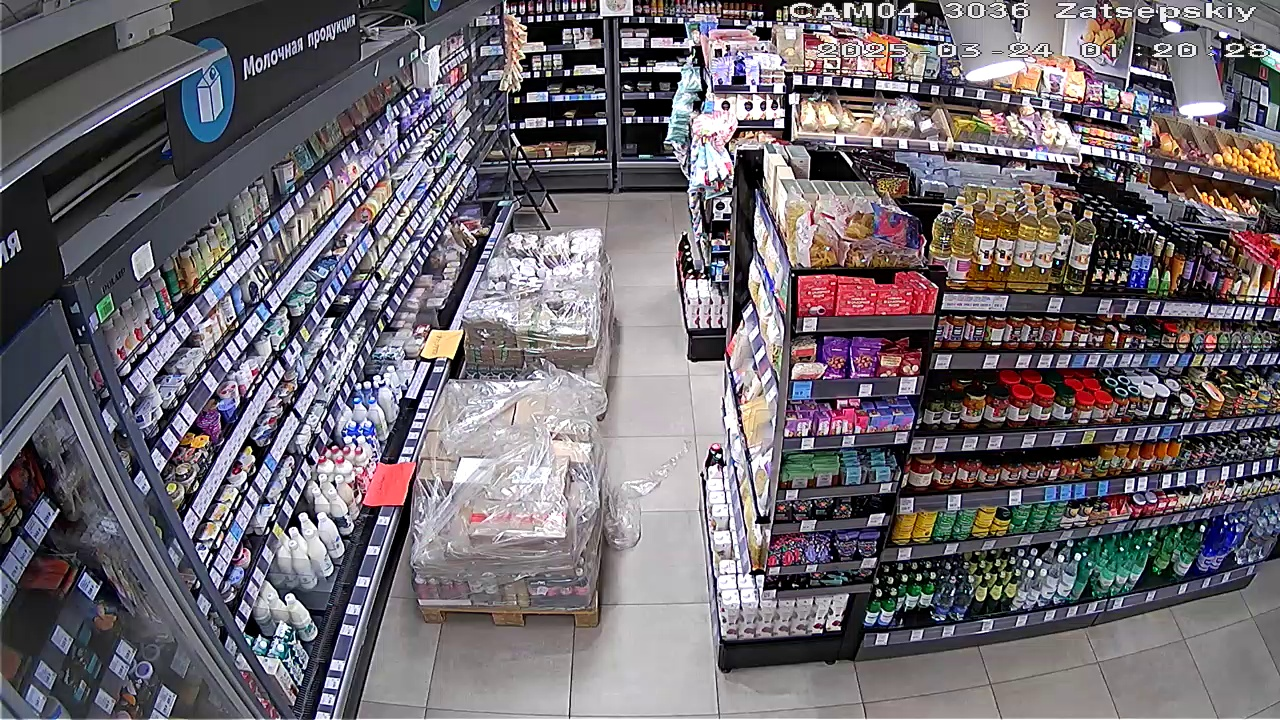pallet: (405, 368, 610, 626), (457, 223, 613, 385)
